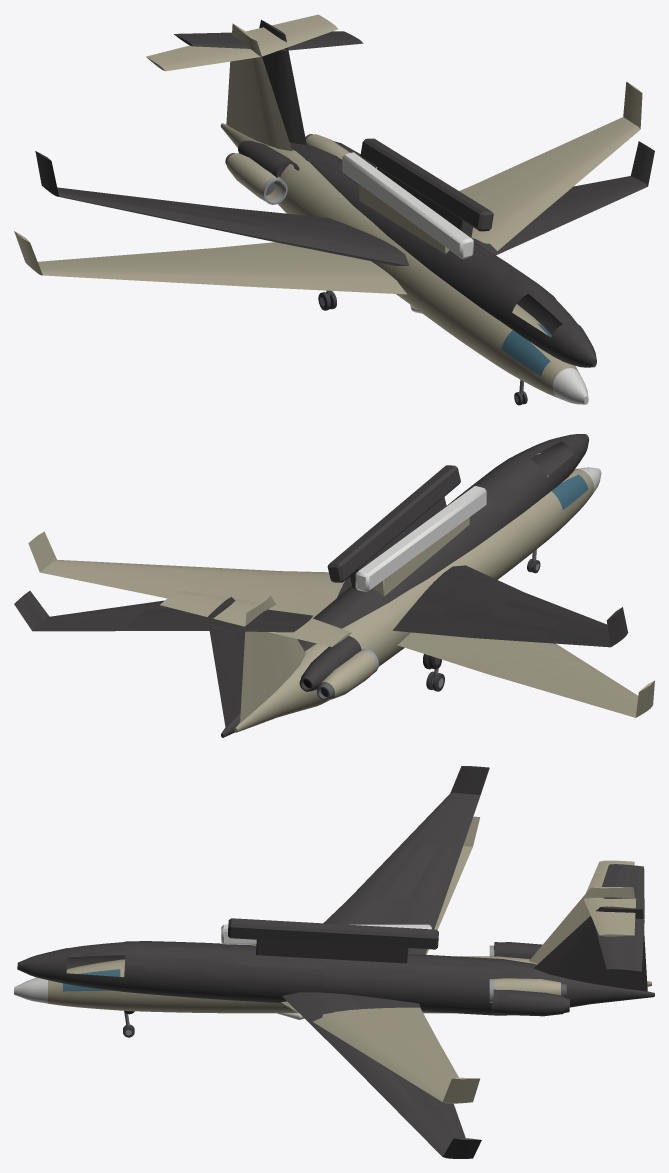
The model's file is aewc__globaleye_6500.glb.
3 views of the same model, one above another, from view 1: azimuth 30°, elevation 25°; view 2: azimuth 150°, elevation 25°; view 3: azimuth 270°, elevation 25° (orthographic). The views are drawn at different scales.
Parts seen in each view (by area): view 1: Fuselage_Mesh, Wreck; view 2: Fuselage_Mesh, Wreck; view 3: Wreck, Fuselage_Mesh.
Part boxes in pixels (<box>): Fuselage_Mesh: <box>14,14,642,405</box>; Wreck: <box>35,19,654,367</box>; Fuselage_Mesh: <box>28,467,654,732</box>; Wreck: <box>14,434,628,737</box>; Wreck: <box>17,766,654,1158</box>; Fuselage_Mesh: <box>14,816,651,1103</box>.
Size of what is drawn, in the model's own units: 30.15 by 7.91 by 30.44.
